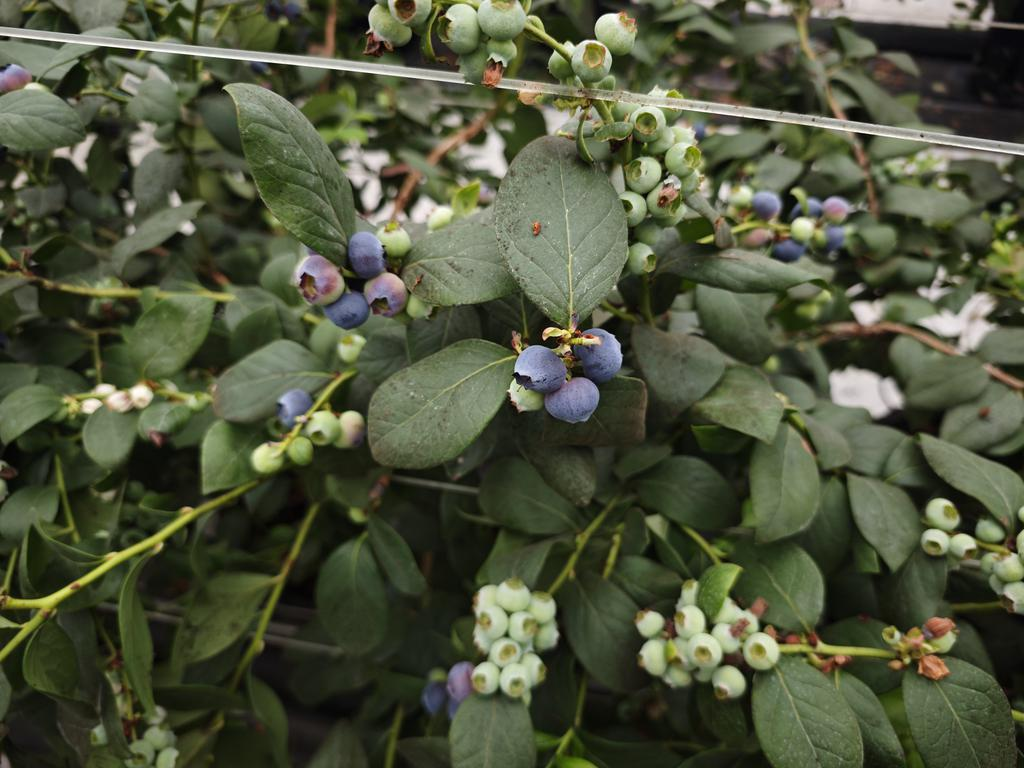RipeBlueBerry: (513, 339, 571, 404), (574, 319, 627, 372), (340, 230, 393, 277)
Semi-RipeBlueBerry: (534, 374, 616, 451), (278, 252, 341, 308)
UnripeBlueBerry: (564, 37, 621, 82)
